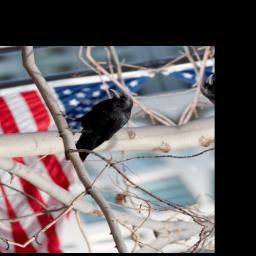Crow: (47, 85, 154, 166)
